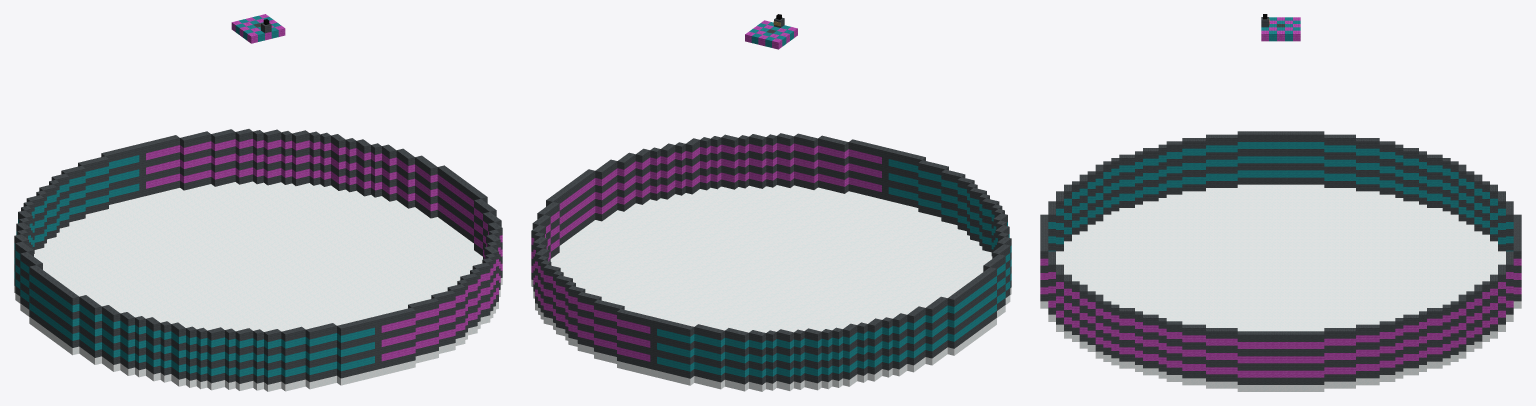
The model's file is minecraft.obj.
3 views of the same model, side by side, from view 1: azimuth 30°, elevation 25°; view 2: azimuth 150°, elevation 25°; view 3: azimuth 270°, elevation 25° (orthographic). The views are drawn at different scales.
Bounding box in the file's own units: 61 × 38.52 × 61.
